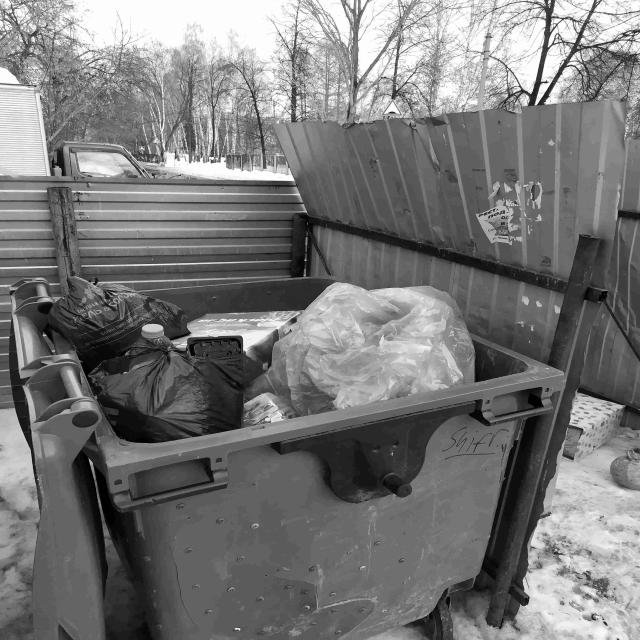Trashcan: (0, 201, 577, 640)
